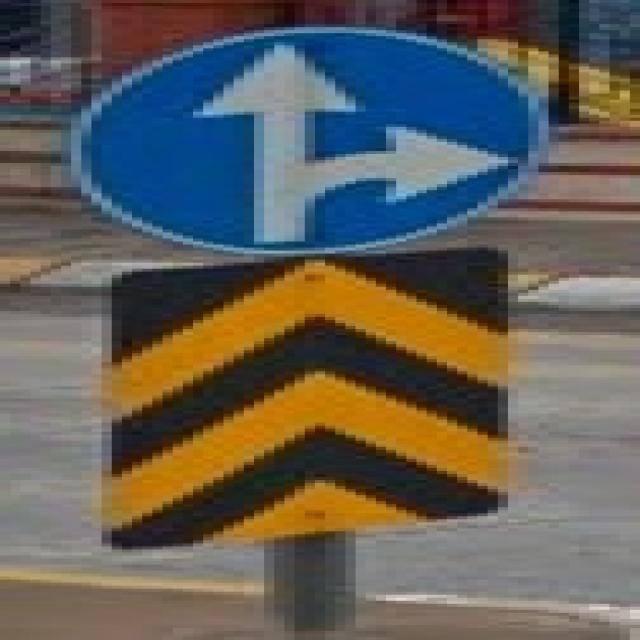Straight or Right: (82, 31, 519, 252)
